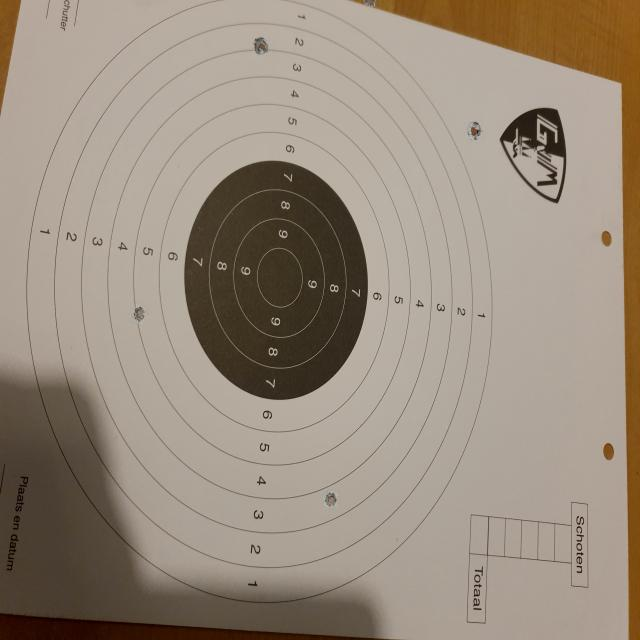0: (467, 121, 483, 141)
3: (323, 488, 339, 511), (252, 36, 268, 56)
5: (130, 303, 148, 325)
Target: (24, 0, 493, 604)
black_contour: (185, 160, 367, 400)
